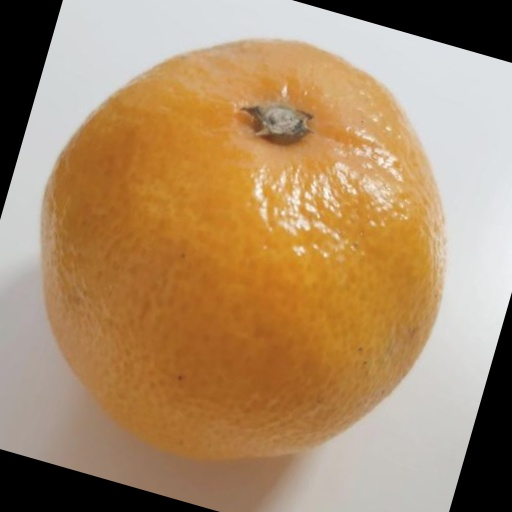fruit: (0, 100, 137, 461)
